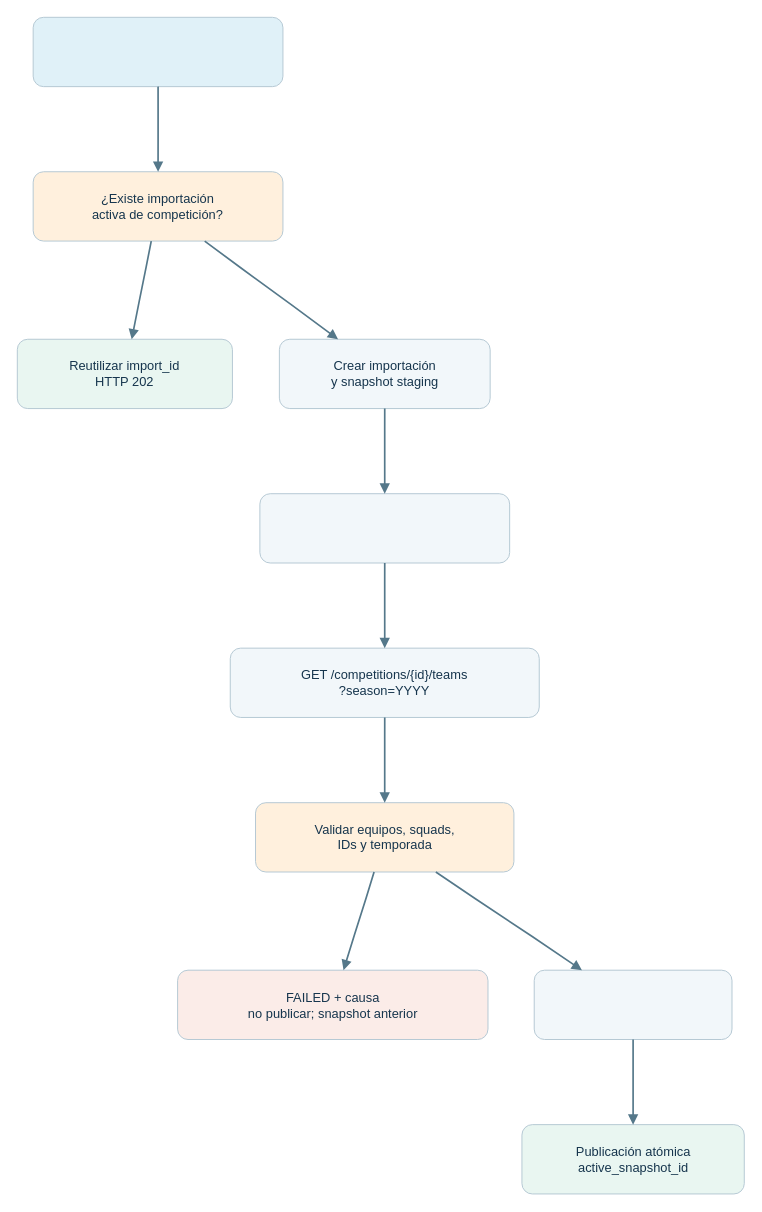
The diagram is 762 pixels wide and 1212 high, and some of its shapes have lost their labels. The shapes that lost their labels are listed below. From the top down, each one's box as (x1, y1, x2, y2) in pixels, then its label:
(32, 16, 283, 87): Consulta autorizada GET /competitions/{id}
(259, 493, 510, 563): GET /competitions/{id} detalle y temporada
(533, 969, 732, 1040): Persistir staging quality_summary
